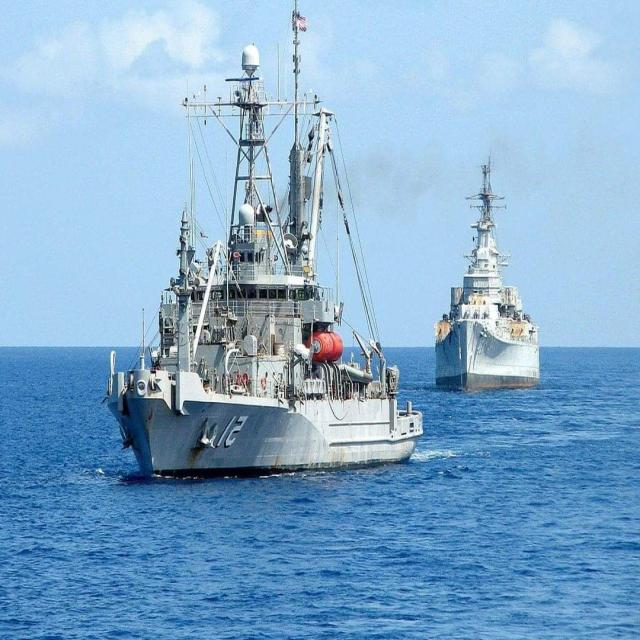navalvessels: (109, 15, 413, 499), (422, 163, 546, 395)
